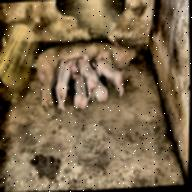boar: (31, 33, 138, 112)
